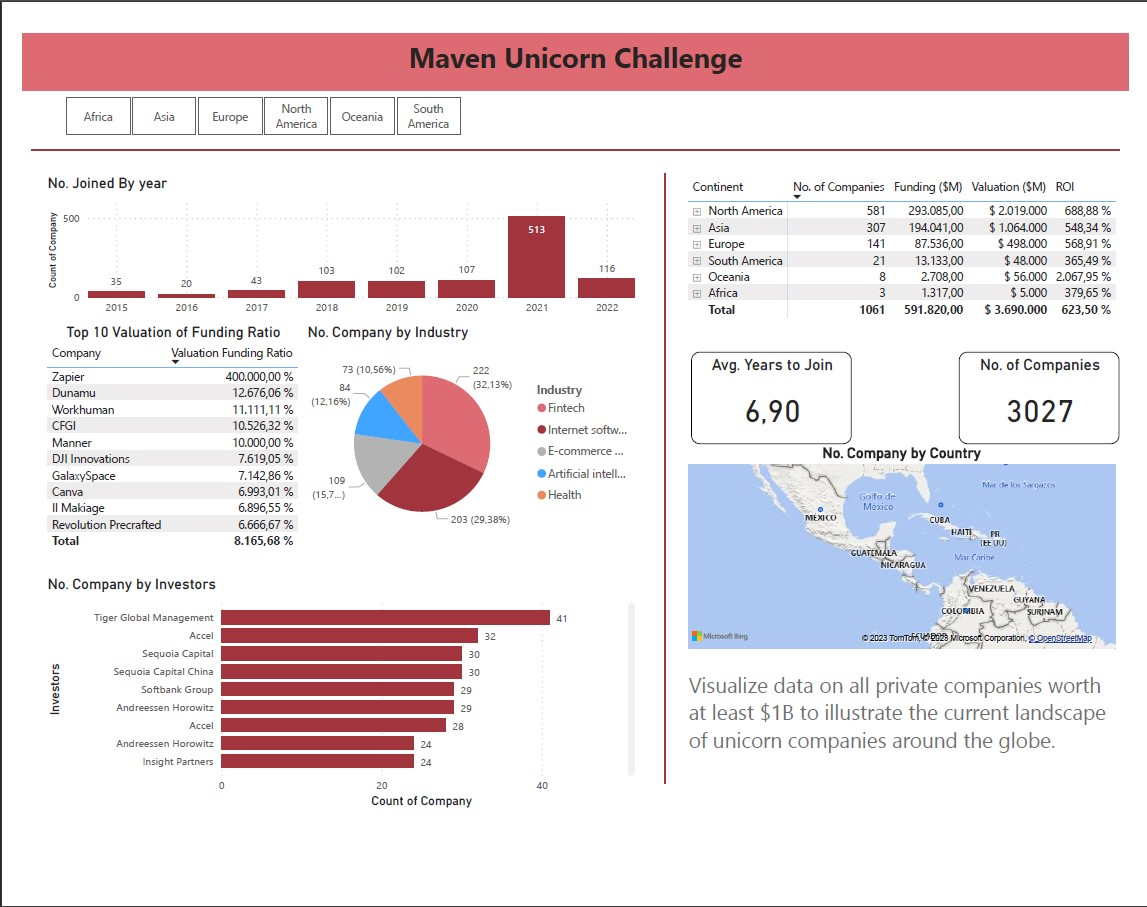

Layout of this report page (visuals, bound fields, positions):
{"tool":"powerbi","page":{"name":"Page 1","canvas":[1280,1000],"ordinal":0},"visuals":[{"type":"pieChart","title":"No. Company by Industry","fields":{"Category":["Unicorn_Companies.Industry"],"Y":["CountNonNull(Unicorn_Companies.Company)"]},"box":[325,347.5,388.8,260],"z":0},{"type":"slicer","fields":{"Values":["Unicorn_Companies.Continent"]},"box":[24.3,79,506.7,56.8],"z":1000},{"type":"pivotTable","fields":{"Rows":["Unicorn_Companies.Continent","Unicorn_Companies.Country"],"Values":["CountNonNull(Unicorn_Companies.Company)","Sum(Unicorn_Companies.Funding in Millions)","Sum(Unicorn_Companies.Valuation in Millions)","Unicorn_Companies.Valuation Funding Ratio"]},"box":[766.2,175,503.8,203.8],"z":2000},{"type":"pivotTable","title":"Top 10 Valuation of Funding Ratio","fields":{"Rows":["Unicorn_Companies.Company"],"Values":["Unicorn_Companies.Valuation Funding Ratio"]},"box":[23.8,347.5,301.2,275],"z":3000},{"type":"textbox","box":[0,13.2,1280,65.9],"z":4000},{"type":"map","title":"No. Company by Country","fields":{"Category":["Unicorn_Companies.Country"],"Size":["CountNonNull(Unicorn_Companies.Company)"]},"box":[766.2,487.5,503.8,242.5],"z":5000},{"type":"shape","box":[737.5,175,12.5,706.2],"z":5001},{"type":"shape","box":[10,136.2,1260,21.2],"z":5002},{"type":"columnChart","title":"No. Joined By year","fields":{"Y":["CountNonNull(Unicorn_Companies.Company)"],"Category":["Unicorn_Companies.Year Joined"]},"box":[23.8,175,690,172.5],"z":5003},{"type":"barChart","title":"No. Company by Investors","fields":{"Category":["Unicorn_Companies (2).Investors"],"Y":["CountNonNull(Unicorn_Companies (2).Company)"]},"box":[23.8,640,690,273.8],"z":5004},{"type":"card","title":"Avg. Years to Join","fields":{"Values":["Avg(Unicorn_Companies.Years to join)"]},"box":[773.8,381.2,186.2,106.2],"z":5005},{"type":"card","title":"No. of Companies","fields":{"Values":["CountNonNull(Unicorn_Companies (2).Company)"]},"box":[1083.8,381.2,186.2,106.2],"z":5006},{"type":"textbox","box":[766.2,745,513.8,136.2],"z":5007}]}

Visuals, with their boxes in screenshot pixels (x1, y1, x2, y2), scaled from the page's 1280x1000 canvas onto the 1147x907 screenshot:
"No. Company by Industry" pieChart: BBox(291, 315, 640, 551)
slicer - Unicorn_Companies.Continent: BBox(22, 72, 476, 123)
pivotTable - Unicorn_Companies.Continent x Unicorn_Companies.Country: BBox(687, 159, 1138, 344)
"Top 10 Valuation of Funding Ratio" pivotTable: BBox(21, 315, 291, 565)
textbox: BBox(0, 12, 1146, 72)
"No. Company by Country" map: BBox(687, 442, 1138, 662)
shape: BBox(661, 159, 672, 799)
shape: BBox(9, 124, 1138, 143)
"No. Joined By year" columnChart: BBox(21, 159, 640, 315)
"No. Company by Investors" barChart: BBox(21, 580, 640, 829)
"Avg. Years to Join" card: BBox(693, 346, 860, 442)
"No. of Companies" card: BBox(971, 346, 1138, 442)
textbox: BBox(687, 676, 1146, 799)
